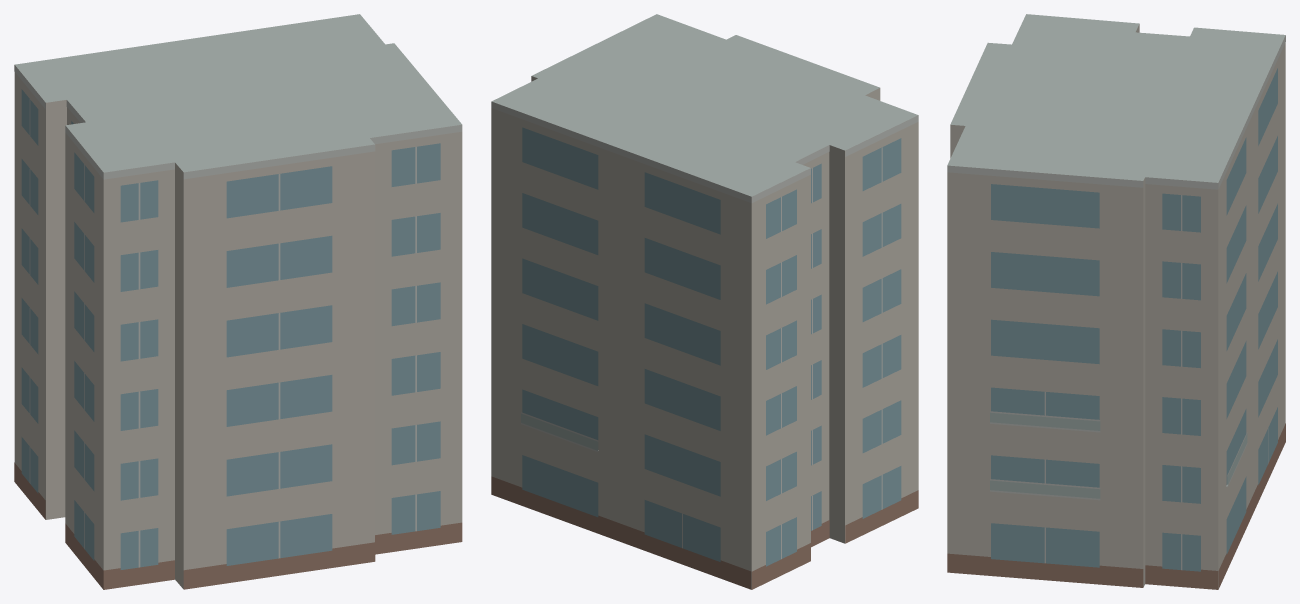
The model's file is survey-upis-33014283.glb.
3 views of the same model, side by side, from view 1: azimuth 30°, elevation 25°; view 2: azimuth 150°, elevation 25°; view 3: azimuth 270°, elevation 25° (orthographic). The views are drawn at different scales.
Visible parts, largest first — view 1: survey-upis-33014283.tmp; view 2: survey-upis-33014283.tmp; view 3: survey-upis-33014283.tmp.
Boxes of the visible parts, x1=… form: survey-upis-33014283.tmp: x1=14, y1=14, x2=462, y2=589; survey-upis-33014283.tmp: x1=491, y1=14, x2=918, y2=589; survey-upis-33014283.tmp: x1=947, y1=14, x2=1285, y2=589.
Bounding box in the file's own units: 13.01 × 14.6 × 11.02.
